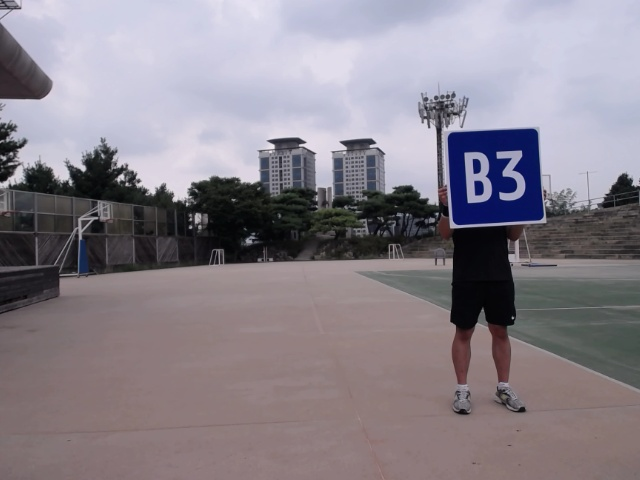delivery_b3: (444, 124, 550, 228)
